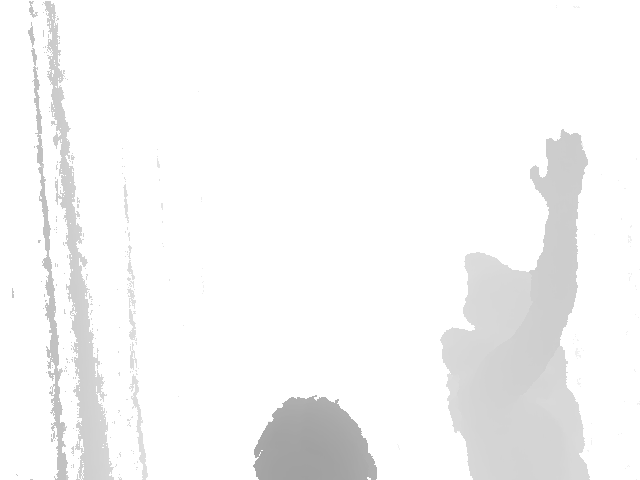hand: (528, 128, 592, 200)
head: (252, 397, 380, 480), (456, 250, 537, 339)
person: (436, 128, 592, 480)
